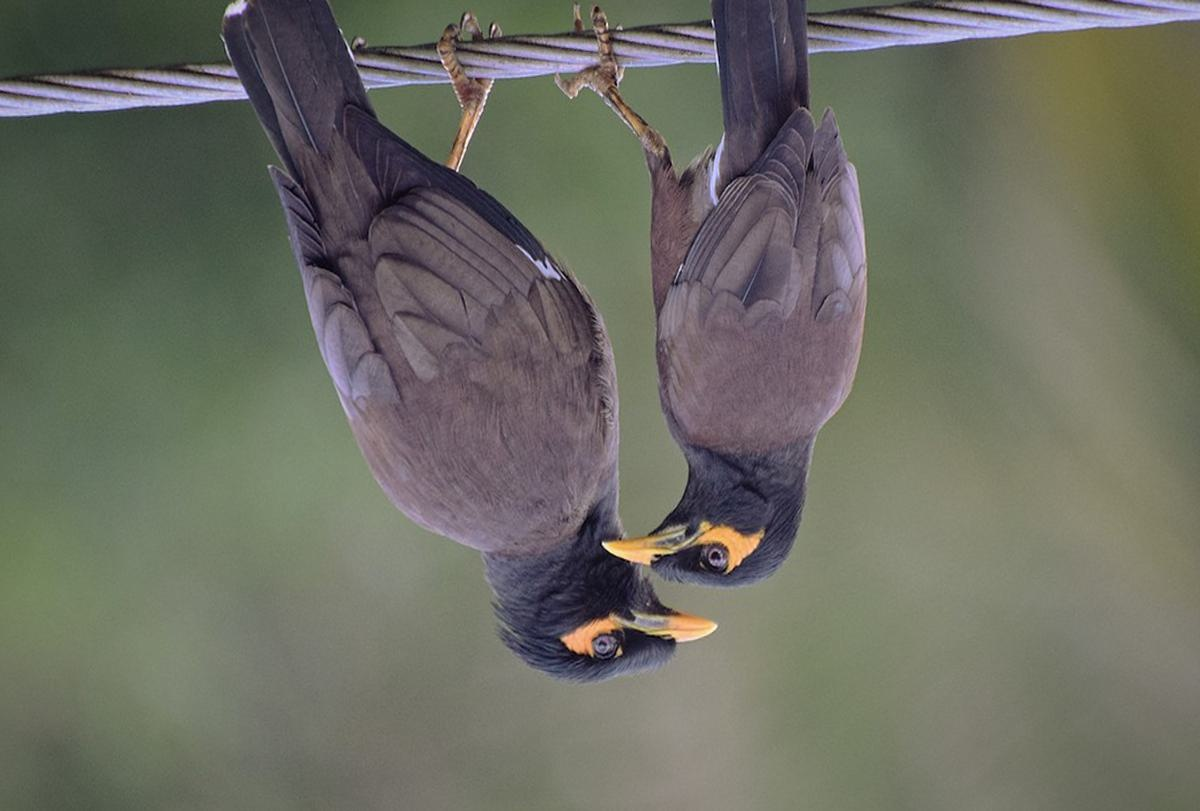myna: (196, 41, 717, 682), (604, 1, 887, 591)
